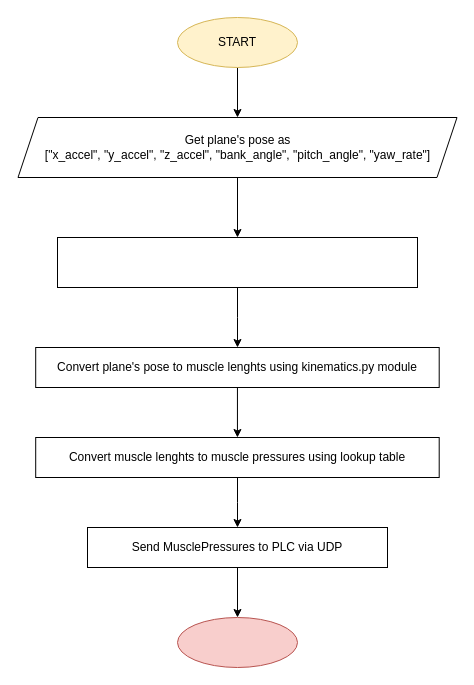
Image size: 474x685. Some labels were removed from this diagram. The box of each missing label's shape, as (x1, y1, x2, y2) in pixels:
Apply washout to airplane telemetry to obtain an "ilusion" pose: (56, 236, 418, 288)
FINISH: (176, 616, 298, 668)
